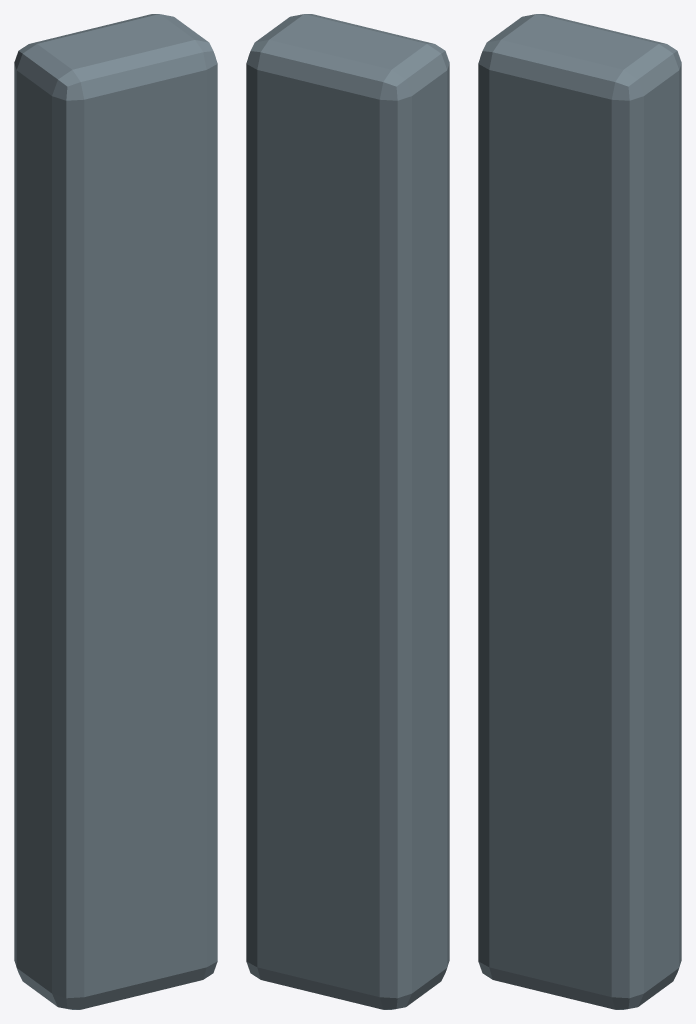
Rendered from SM_Lab_EquipmentCabinet__Door_1_8_Handle.fbx.
3 renders of one model, left to right at view 1: azimuth 30°, elevation 25°; view 2: azimuth 150°, elevation 25°; view 3: azimuth 330°, elevation 25°, orthographic.
Parts seen in each view (by area): view 1: SM_Lab_EquipmentCabinet__Door_1_8_Handle; view 2: SM_Lab_EquipmentCabinet__Door_1_8_Handle; view 3: SM_Lab_EquipmentCabinet__Door_1_8_Handle.
Boxes of the visible parts, x1,y1,x2,y2 form: SM_Lab_EquipmentCabinet__Door_1_8_Handle: [14, 14, 217, 1009]; SM_Lab_EquipmentCabinet__Door_1_8_Handle: [246, 14, 449, 1009]; SM_Lab_EquipmentCabinet__Door_1_8_Handle: [478, 14, 681, 1009].
Size of the model in its own units: 4 by 2.5 by 22.
